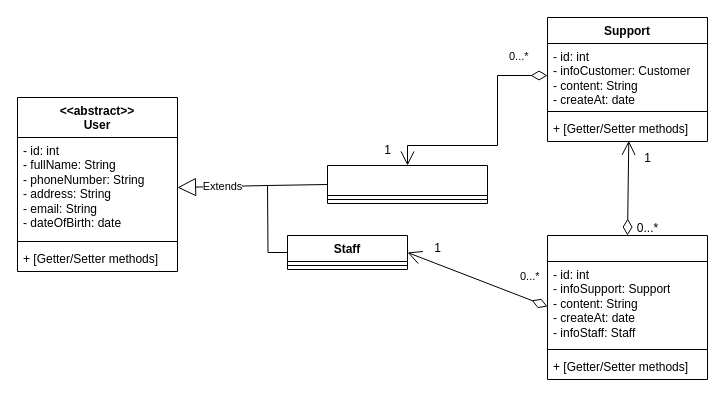
Some shapes in this 725 by 400 pixel diagram are drawn without their labels. Here are the shapes that lost their labels. From the top down, the box of each, then its label:
(326, 164, 488, 204): Customer
(546, 234, 708, 380): ReponseSupport
